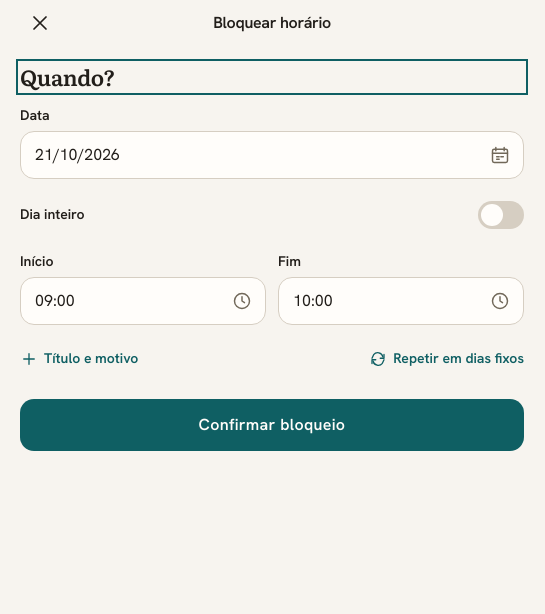
?type= de antes só pré-configura a tela › /agenda/bloquear?type=BLOCK: o padrão, pausa no atendimento
Expected: the switch named "Dia inteiro" is not checked, [478,200,524,228]
Click the button "Título e motivo" at coordinates (79, 358), box [20,336,138,380]
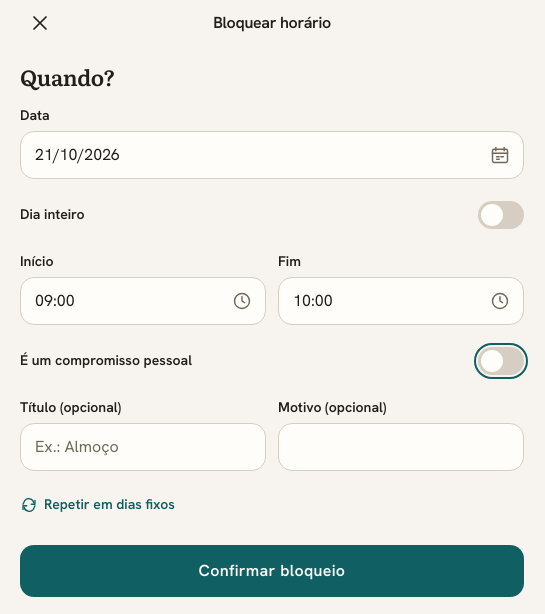
Expected: the button "Confirmar bloqueio" is shown, [20,544,524,596]
Expected: the switch named "É um compromisso pessoal" in the row of "É um compromisso pessoal" is not checked, [478,346,524,374]
